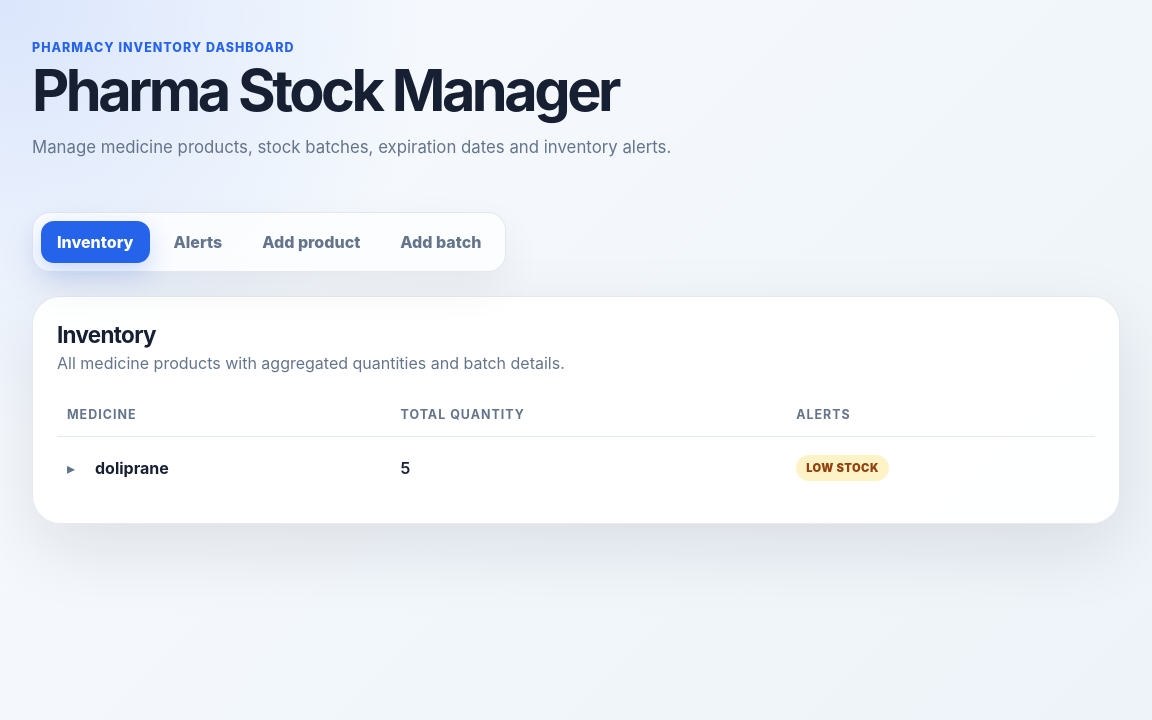
Test case: App › should switch to alerts tab
Expected: the text "doliprane" is shown, [95,458,169,478]
Click the button "Alerts".
click(198, 242)  # box [158,221,238,263]
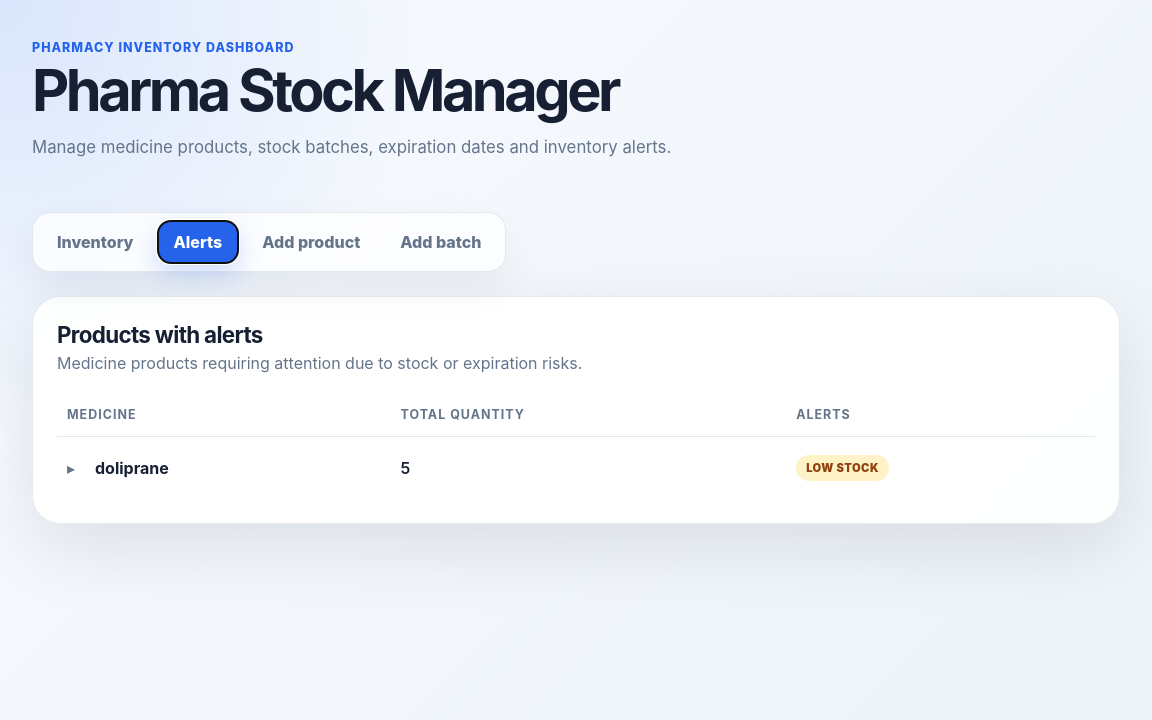
Expected: the text "doliprane" is shown, [95,458,169,478]
Result: the heading "Products with alerts" is shown at [57,321,263,348]
